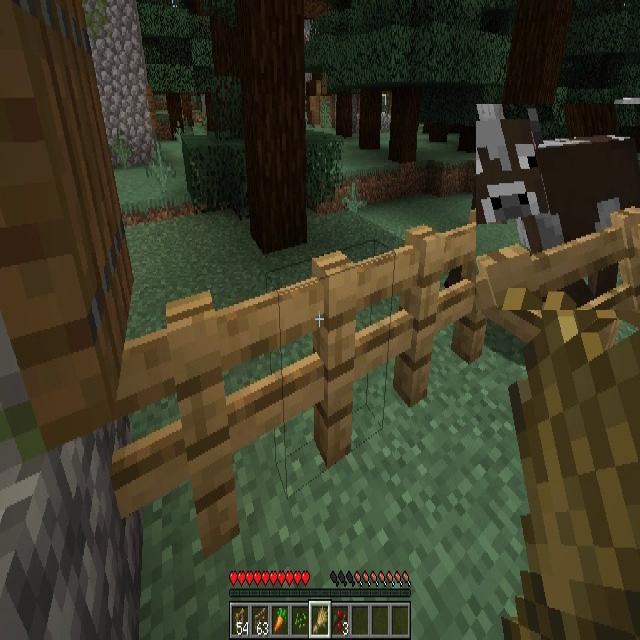cow: (476, 104, 640, 310)
